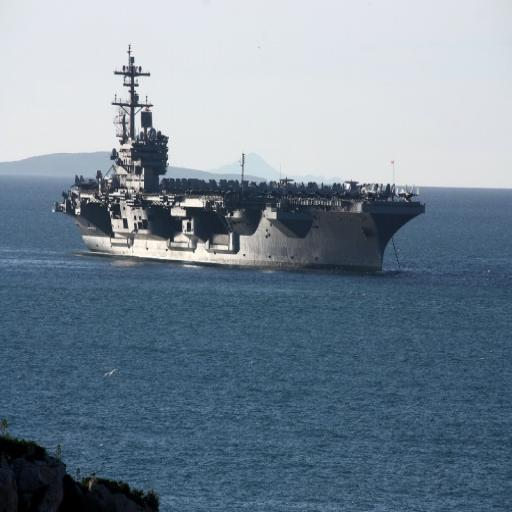Portanaves: (49, 46, 431, 273)
